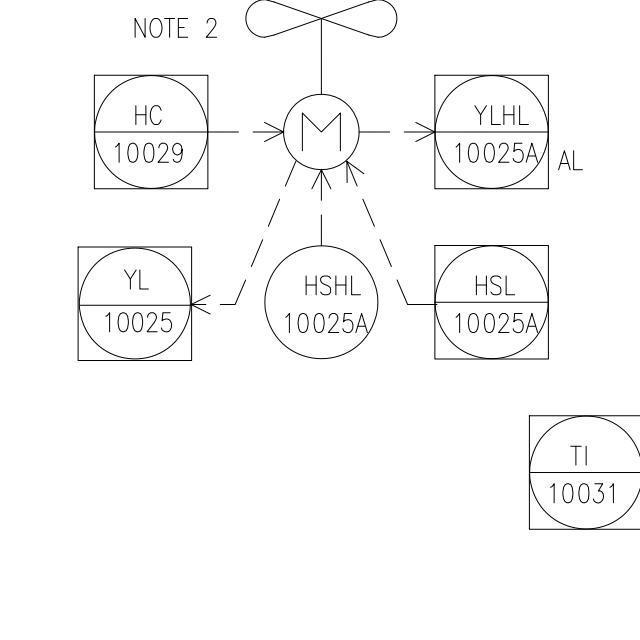M: (280, 92, 364, 168)
